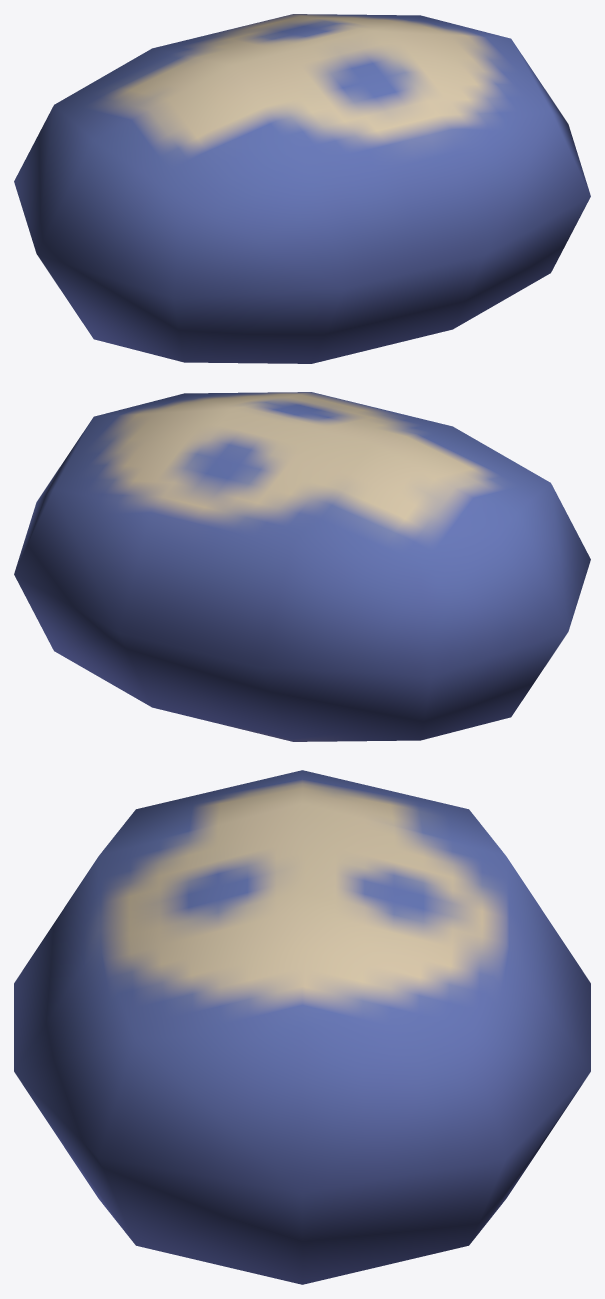
The model's file is candy10.fbx.
The picture shows the model from 3 angles, top to bottom: view 1: azimuth 30°, elevation 25°; view 2: azimuth 150°, elevation 25°; view 3: azimuth 270°, elevation 25°; orthographic projection. The views are drawn at different scales.
Visible parts, largest first — view 1: candy10; view 2: candy10; view 3: candy10.
Boxes of the visible parts, box(x1,y1,x2,y2) form: candy10: box(14, 14, 590, 363); candy10: box(14, 392, 590, 741); candy10: box(14, 770, 590, 1284).
Bounding box in the file's own units: 10.56 × 5.33 × 7.76.
